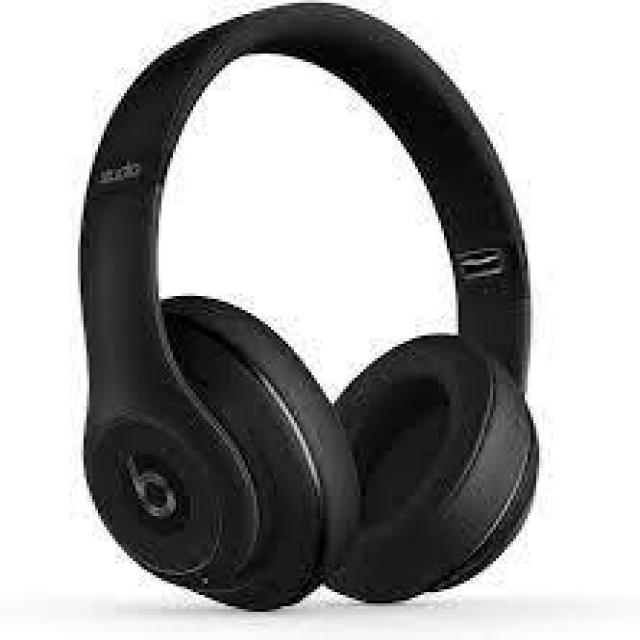headset: (96, 2, 550, 596)
